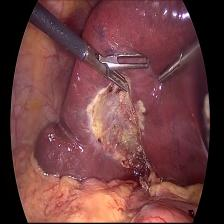Grasper: (87, 43, 156, 105), (155, 43, 196, 90)
